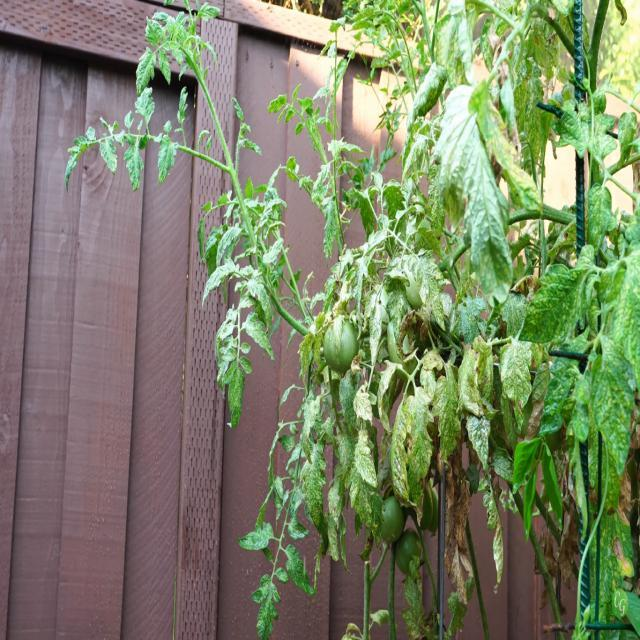Tomato spider mites leaf: (467, 77, 544, 215), (588, 336, 636, 476), (518, 262, 588, 343), (610, 247, 640, 395), (406, 386, 434, 528), (432, 0, 474, 88), (408, 247, 446, 333), (431, 360, 461, 468), (538, 356, 575, 440), (405, 59, 447, 132), (349, 470, 386, 552), (390, 403, 418, 510), (500, 341, 532, 432), (299, 438, 327, 530), (297, 311, 325, 396), (249, 572, 281, 640), (224, 354, 252, 430), (376, 358, 404, 434), (482, 490, 504, 586), (548, 108, 590, 158), (402, 553, 426, 640), (200, 257, 237, 312), (522, 78, 544, 162), (446, 576, 476, 637), (588, 182, 612, 257), (400, 132, 430, 189), (248, 268, 272, 338), (244, 311, 276, 362), (472, 334, 494, 408), (285, 542, 315, 596), (353, 429, 379, 489), (426, 162, 446, 240), (464, 412, 490, 470), (352, 255, 369, 342), (385, 278, 408, 342), (302, 393, 321, 467), (458, 294, 486, 344), (335, 423, 355, 492), (500, 291, 528, 337), (236, 520, 274, 552), (216, 336, 238, 391), (338, 370, 356, 436), (157, 133, 179, 186), (135, 45, 157, 98), (594, 112, 618, 158), (368, 298, 383, 368), (617, 110, 638, 158), (326, 477, 344, 531), (124, 146, 144, 194), (480, 17, 497, 73), (353, 384, 374, 426), (310, 162, 330, 206), (134, 86, 156, 125), (324, 198, 336, 260), (100, 135, 118, 176), (195, 0, 220, 23), (158, 48, 172, 86), (288, 516, 310, 540), (278, 433, 296, 453), (274, 474, 284, 500)
